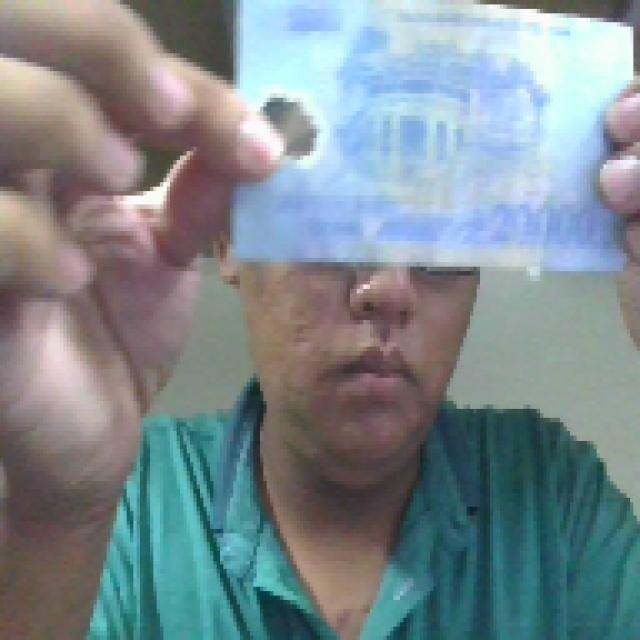20 000 VND: (220, 0, 637, 280)
